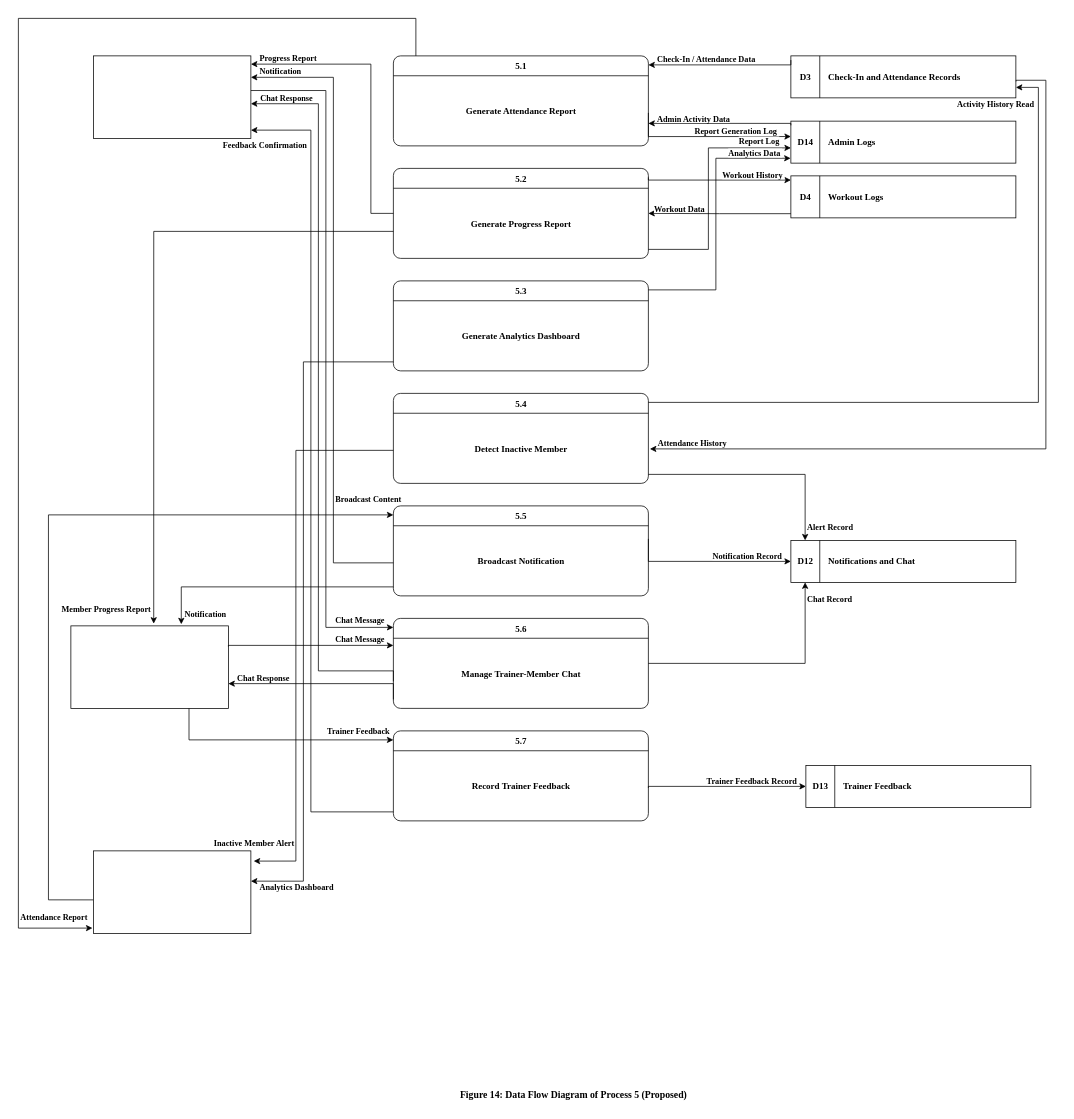
Image size: 1074x1119. Some labels were removed from this diagram. The centre of each missing label's shape, as x and y in pixels:
"ADMIN" goes at point 172,891.
"MEMBER" goes at point 172,96.
"TRAINER" goes at point 149,666.
